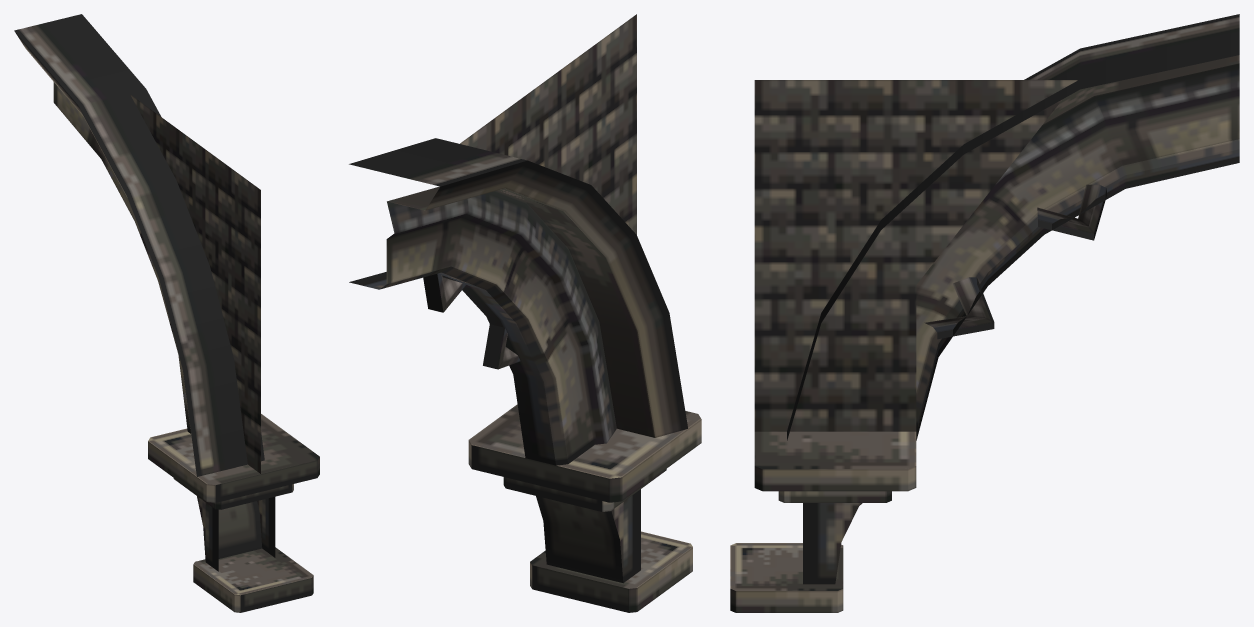
Rendered from EnvMdrMD_Castle_A_Wall_Arch_Half_Right.FBX.
The picture shows the model from 3 angles, left to right: view 1: azimuth 30°, elevation 25°; view 2: azimuth 150°, elevation 25°; view 3: azimuth 270°, elevation 25°; orthographic projection. The views are drawn at different scales.
Parts seen in each view (by area): view 1: EnvMdrMD_Castle_A_Wall_Arch_Half_Right; view 2: EnvMdrMD_Castle_A_Wall_Arch_Half_Right; view 3: EnvMdrMD_Castle_A_Wall_Arch_Half_Right.
Boxes of the visible parts, left/top/right/bottom form: EnvMdrMD_Castle_A_Wall_Arch_Half_Right: left=14, top=14, right=319, bottom=612; EnvMdrMD_Castle_A_Wall_Arch_Half_Right: left=349, top=14, right=701, bottom=612; EnvMdrMD_Castle_A_Wall_Arch_Half_Right: left=730, top=14, right=1239, bottom=612.
Bounding box in the file's own units: 100 × 369 × 315.
1 material, 1 textured.
